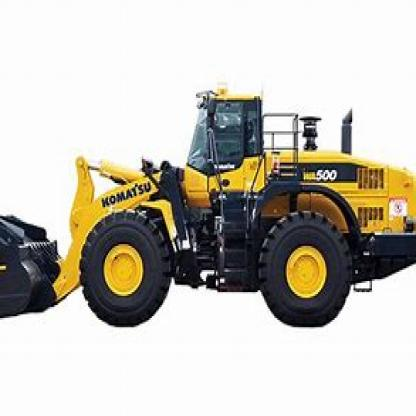bull_dozer/loader/grader: (0, 81, 415, 333)
